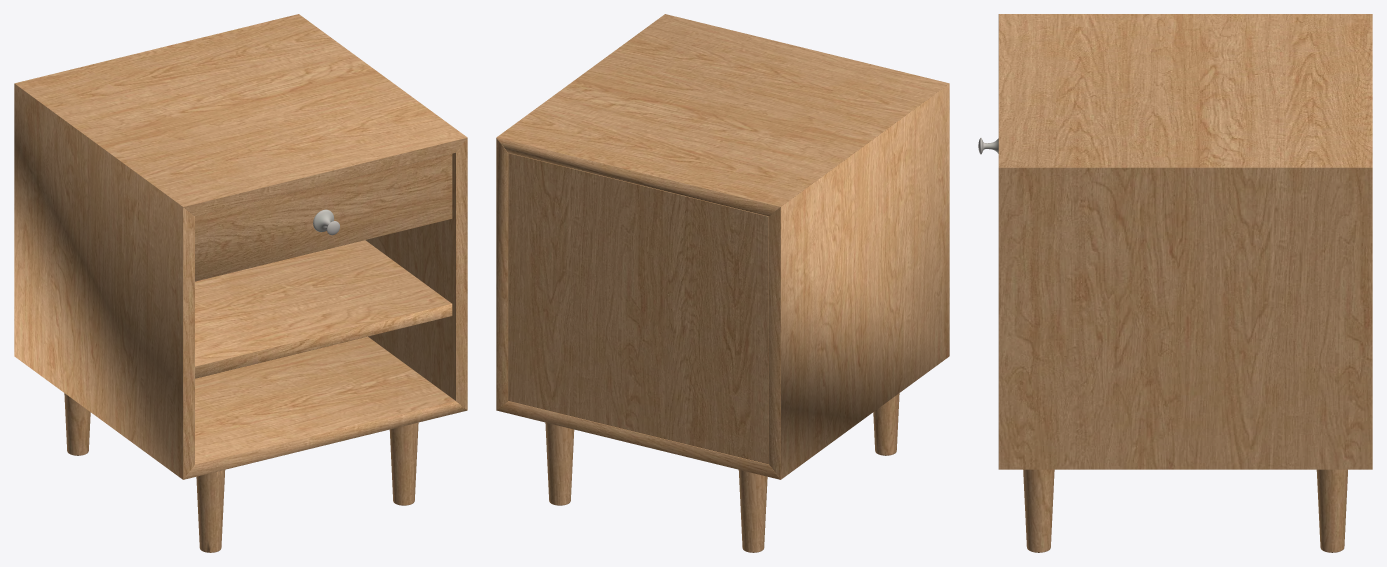
File: herman-miller-nelson-basic-cabinet-series.optimized.glb
3 renders of one model, left to right at view 1: azimuth 30°, elevation 25°; view 2: azimuth 150°, elevation 25°; view 3: azimuth 270°, elevation 25°, orthographic. The views are drawn at different scales.
Parts seen in each view (by area): view 1: HRM-NELSON_BASIC_CABINET_SERIES_BEDSIDE_TABLE_BODY__vcn_mes_, HRM-NELSON_BASIC_CABINET_SERIES_TAPER_LEG__vcn_mes_000030_00; view 2: HRM-NELSON_BASIC_CABINET_SERIES_BEDSIDE_TABLE_BODY__vcn_mes_, HRM-NELSON_BASIC_CABINET_SERIES_TAPER_LEG__vcn_mes_000030_00; view 3: HRM-NELSON_BASIC_CABINET_SERIES_BEDSIDE_TABLE_BODY__vcn_mes_, HRM-NELSON_BASIC_CABINET_SERIES_TAPER_LEG__vcn_mes_000030_00.
Part boxes in pixels (x1,y1,x2,y2): HRM-NELSON_BASIC_CABINET_SERIES_BEDSIDE_TABLE_BODY__vcn_mes_: (14, 14, 467, 479); HRM-NELSON_BASIC_CABINET_SERIES_TAPER_LEG__vcn_mes_000030_00: (64, 393, 418, 552); HRM-NELSON_BASIC_CABINET_SERIES_BEDSIDE_TABLE_BODY__vcn_mes_: (496, 14, 949, 479); HRM-NELSON_BASIC_CABINET_SERIES_TAPER_LEG__vcn_mes_000030_00: (545, 393, 899, 552); HRM-NELSON_BASIC_CABINET_SERIES_BEDSIDE_TABLE_BODY__vcn_mes_: (998, 14, 1372, 469); HRM-NELSON_BASIC_CABINET_SERIES_TAPER_LEG__vcn_mes_000030_00: (1023, 469, 1347, 552).
Size of what is drawn, in the model's own units: 0.4572 by 0.564 by 0.4955.
4 materials, 3 textured.
